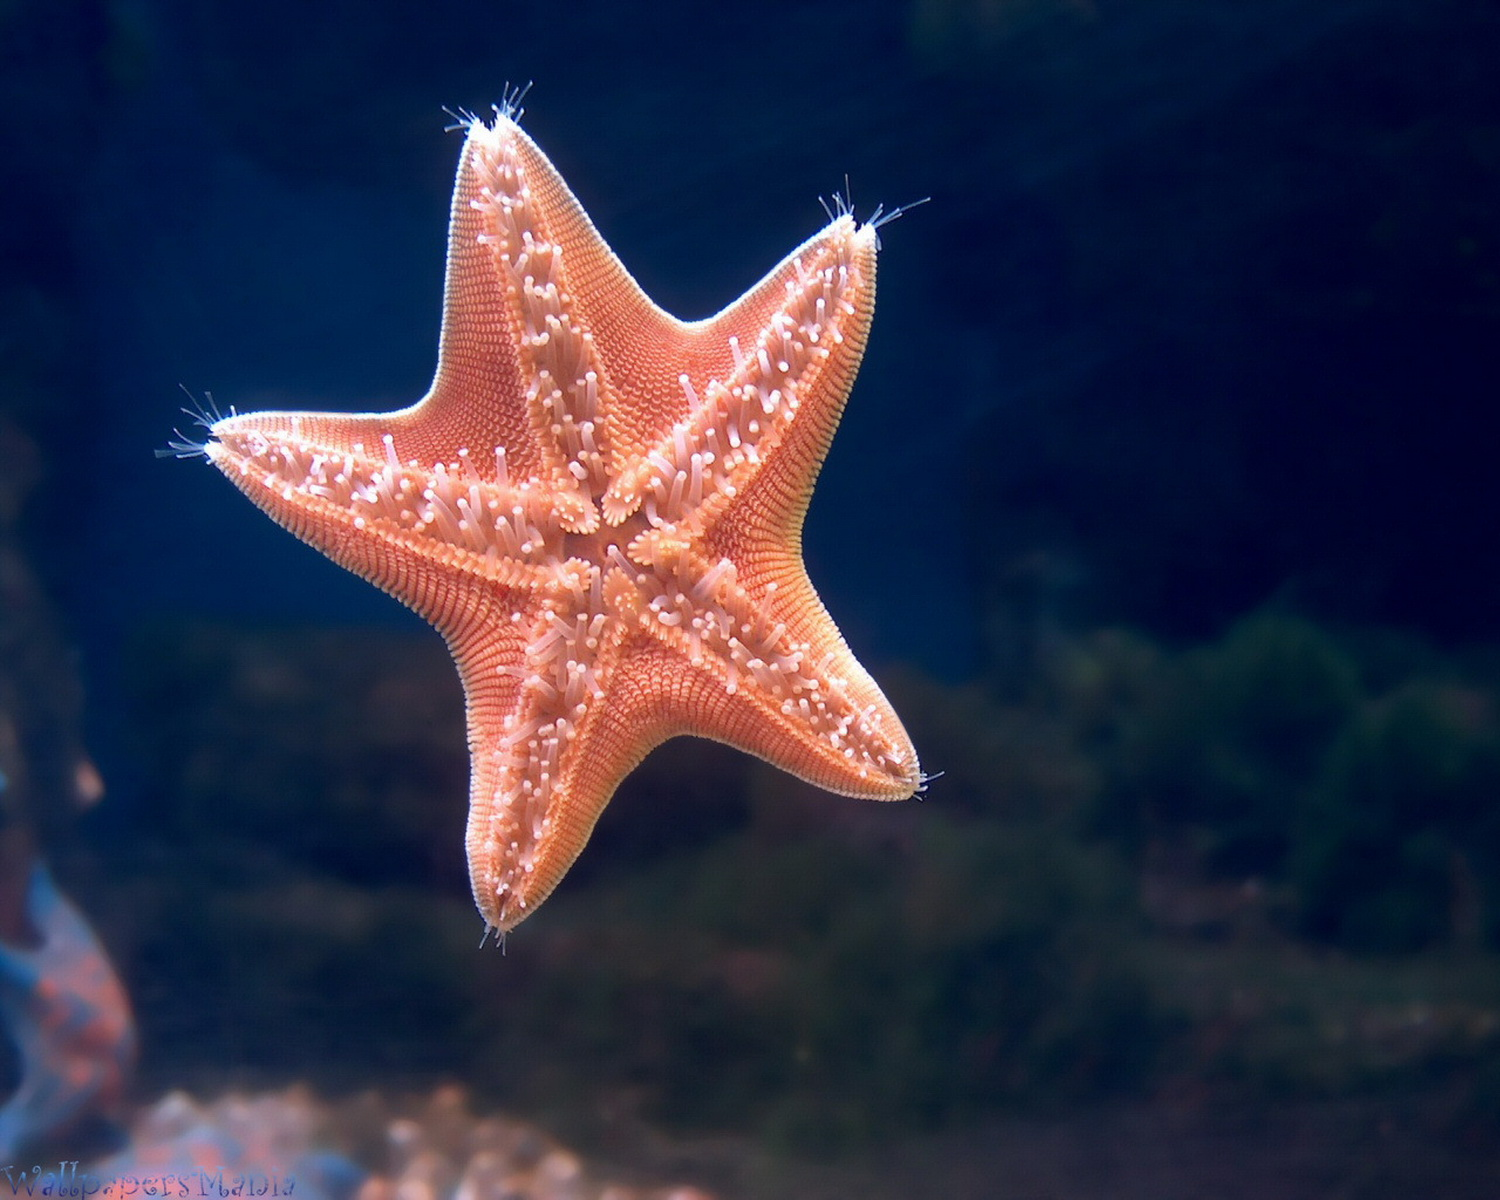starfish: (132, 91, 1000, 944)
